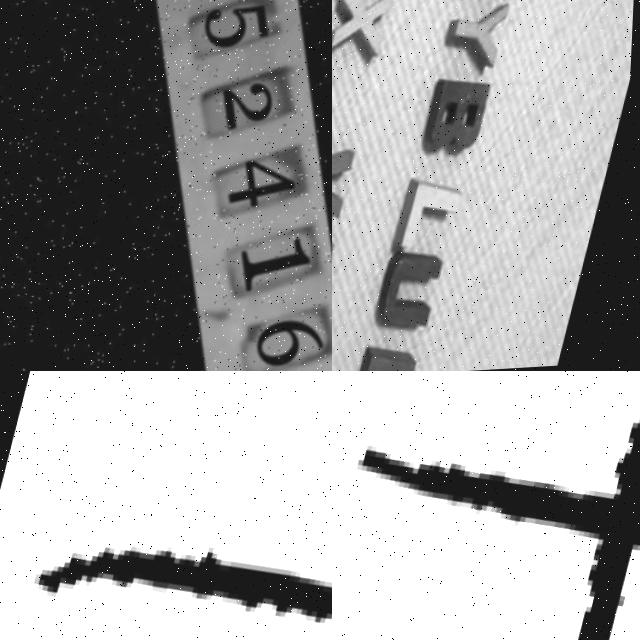1: (217, 209, 332, 318)
2: (192, 53, 308, 155)
4: (198, 128, 326, 241)
5: (179, 0, 294, 75)
6: (230, 286, 332, 371)
B: (422, 79, 494, 162)
E: (359, 346, 424, 371)
F: (353, 421, 640, 640)
I: (35, 547, 332, 631)
L: (399, 181, 467, 260)
U: (380, 255, 447, 337)
V: (332, 145, 358, 227)
X: (332, 0, 397, 61)
Y: (446, 4, 509, 74)
